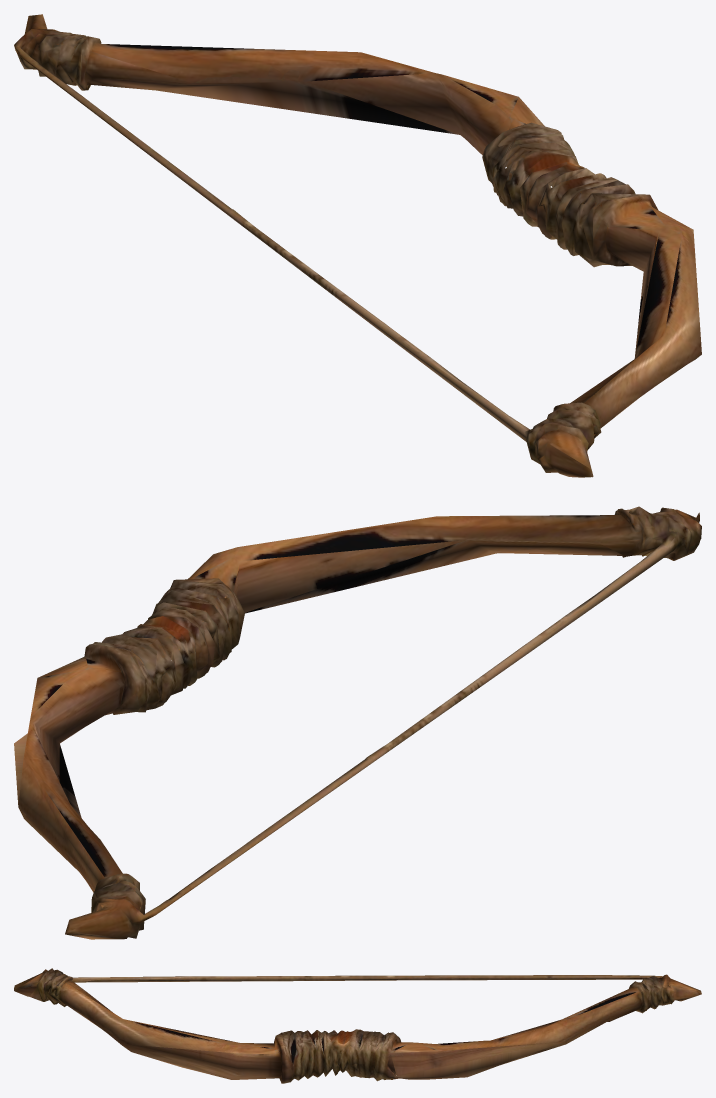
The model's file is 1098_bow.glb.
The picture shows the model from 3 angles, top to bottom: view 1: azimuth 30°, elevation 25°; view 2: azimuth 150°, elevation 25°; view 3: azimuth 270°, elevation 25°; orthographic projection. The views are drawn at different scales.
Visible parts, largest first — view 1: Model; view 2: Model; view 3: Model.
Part boxes in pixels (x1=…): Model: x1=14, y1=14, x2=701, y2=477; Model: x1=14, y1=506, x2=701, y2=939; Model: x1=14, y1=968, x2=701, y2=1083.
Bounding box in the file's own units: 0.3206 × 0.0702 × 1.
1 material, 1 textured.
